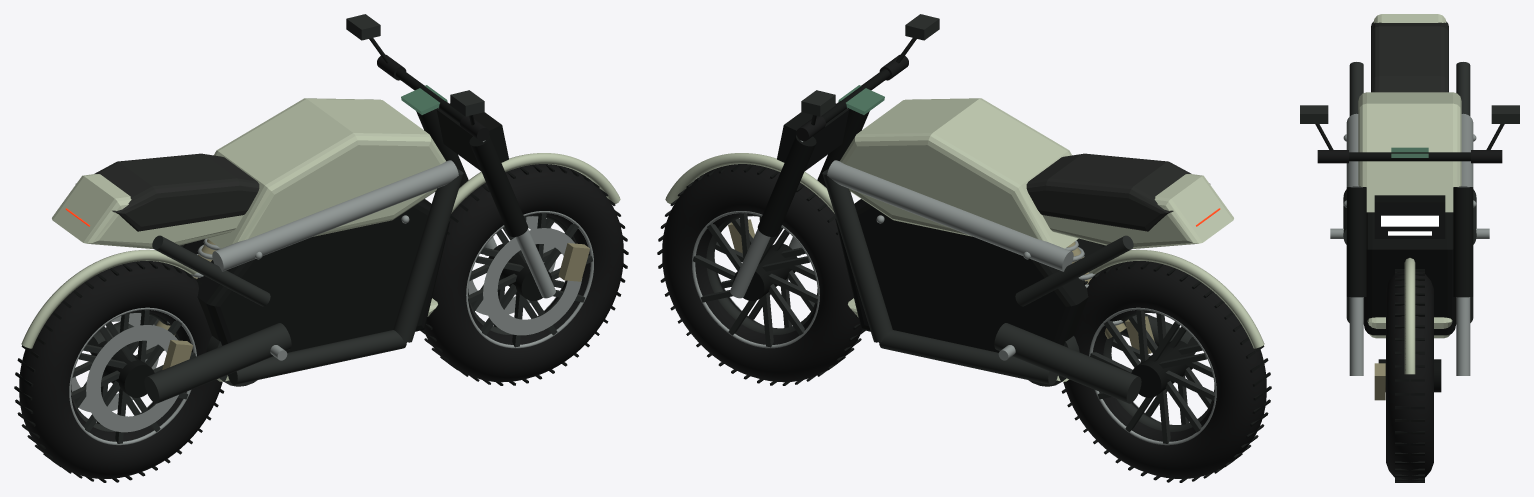
The model's file is volt-r1.glb.
3 renders of one model, left to right at view 1: azimuth 30°, elevation 25°; view 2: azimuth 150°, elevation 25°; view 3: azimuth 270°, elevation 25°, orthographic. The views are drawn at different scales.
Visible parts, largest first — view 1: Rear_Tire, Battery_Core, Body_Tank, Front_Tire, Seat_Surface, Body_Tail, Frame_Upper, Body_Fender (×2), Swingarm, Rear_Brake (×2), Frame_Down, Front_Brake (+13 smaller); view 2: Front_Tire, Rear_Tire, Battery_Core, Body_Tank, Seat_Surface, Body_Tail, Frame_Upper, Body_Fender (×2), Swingarm, Frame_Down, Frame_Lower, Fork_Sleeve (×2) (+12 smaller); view 3: Body_Tank, Front_Tire, Battery_Core, Seat_Surface, Fork_Sleeve (×2), Headlight_Housing, Front_Fork (×2), Frame_Upper (×2), Body_Fender, Tail_Support (×2), Mirror (×2), Handlebar (+7 smaller).
Part boxes in pixels (<box>): Rear_Tire: <box>19,261,222,478</box>; Battery_Core: <box>183,199,450,352</box>; Body_Tank: <box>207,98,445,248</box>; Front_Tire: <box>423,164,623,382</box>; Seat_Surface: <box>75,153,259,231</box>; Body_Tail: <box>52,174,243,248</box>; Frame_Upper: <box>212,160,458,271</box>; Body_Fender (×2): <box>21,153,620,348</box>; Swingarm: <box>144,323,291,403</box>; Rear_Brake (×2): <box>71,313,178,432</box>; Frame_Down: <box>393,169,463,342</box>; Front_Brake: <box>483,228,582,335</box>; Front_Tire: <box>662,164,862,382</box>; Rear_Tire: <box>1063,261,1266,478</box>; Battery_Core: <box>835,199,1102,352</box>; Body_Tank: <box>840,98,1078,248</box>; Seat_Surface: <box>1026,153,1210,231</box>; Body_Tail: <box>1042,174,1233,248</box>; Frame_Upper: <box>827,160,1073,271</box>; Body_Fender (×2): <box>665,153,1264,348</box>; Swingarm: <box>994,323,1141,403</box>; Frame_Down: <box>822,169,892,342</box>; Frame_Lower: <box>879,330,1057,384</box>; Fork_Sleeve (×2): <box>757,108,869,236</box>; Body_Tank: <box>1358,92,1461,212</box>; Front_Tire: <box>1386,270,1433,482</box>; Battery_Core: <box>1363,212,1456,335</box>; Seat_Surface: <box>1371,22,1448,92</box>; Fork_Sleeve (×2): <box>1346,186,1473,297</box>; Headlight_Housing: <box>1374,195,1445,238</box>; Front_Fork (×2): <box>1349,187,1470,375</box>; Frame_Upper (×2): <box>1346,113,1473,186</box>; Body_Fender: <box>1404,258,1415,374</box>; Tail_Support (×2): <box>1349,62,1470,115</box>; Mirror (×2): <box>1300,105,1519,123</box>; Handlebar: <box>1349,152,1470,161</box>.
Bounding box in the file's own units: 4.07 × 2.23 × 1.41.
